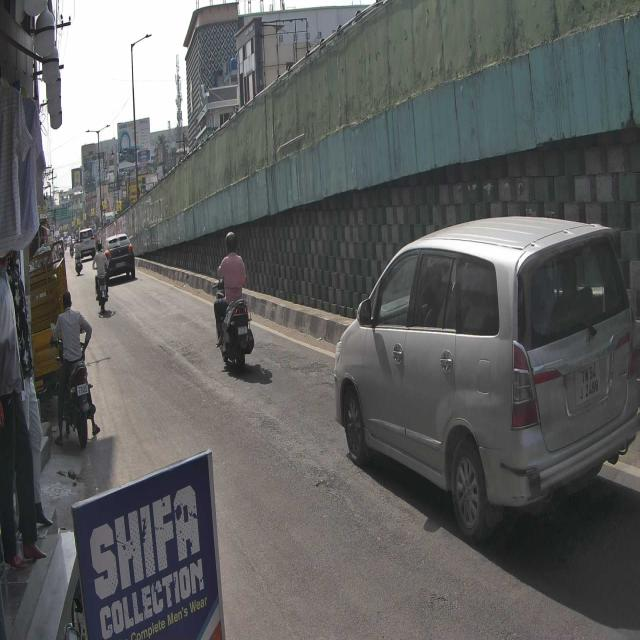single_rider: (212, 231, 255, 371)
